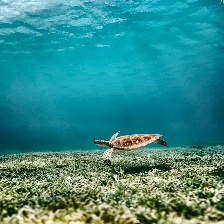seaturtle: (93, 131, 167, 161)
